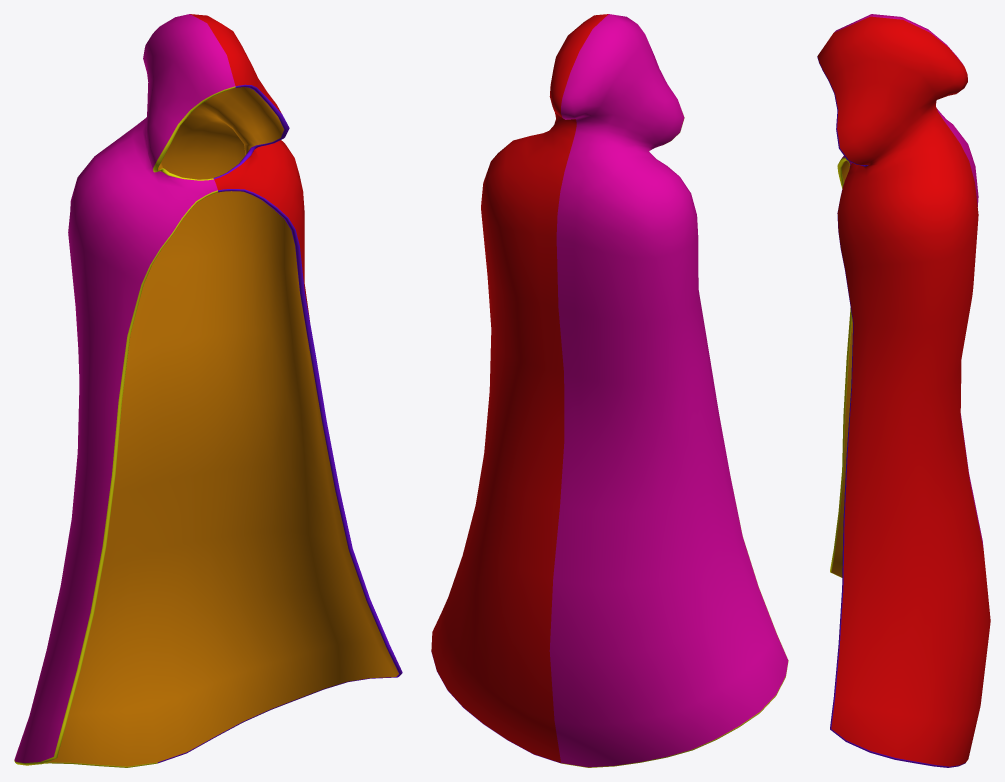
File: Cloak_A_-_FBX.fbx
3 views of the same model, side by side, from view 1: azimuth 30°, elevation 25°; view 2: azimuth 150°, elevation 25°; view 3: azimuth 270°, elevation 25° (orthographic). The views are drawn at different scales.
Visible parts, largest first — view 1: untitled2; view 2: untitled2; view 3: untitled2.
Boxes of the visible parts, left/top/right/bottom form: untitled2: left=14, top=14, right=402, bottom=767; untitled2: left=431, top=14, right=788, bottom=767; untitled2: left=817, top=14, right=990, bottom=767.
Size of the model in its own units: 8395 by 17119 by 3696.
